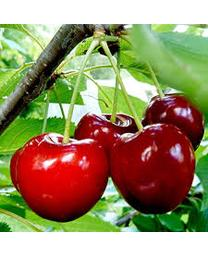cherry: (10, 131, 108, 223), (108, 123, 195, 215), (73, 111, 138, 178), (143, 94, 204, 151)
